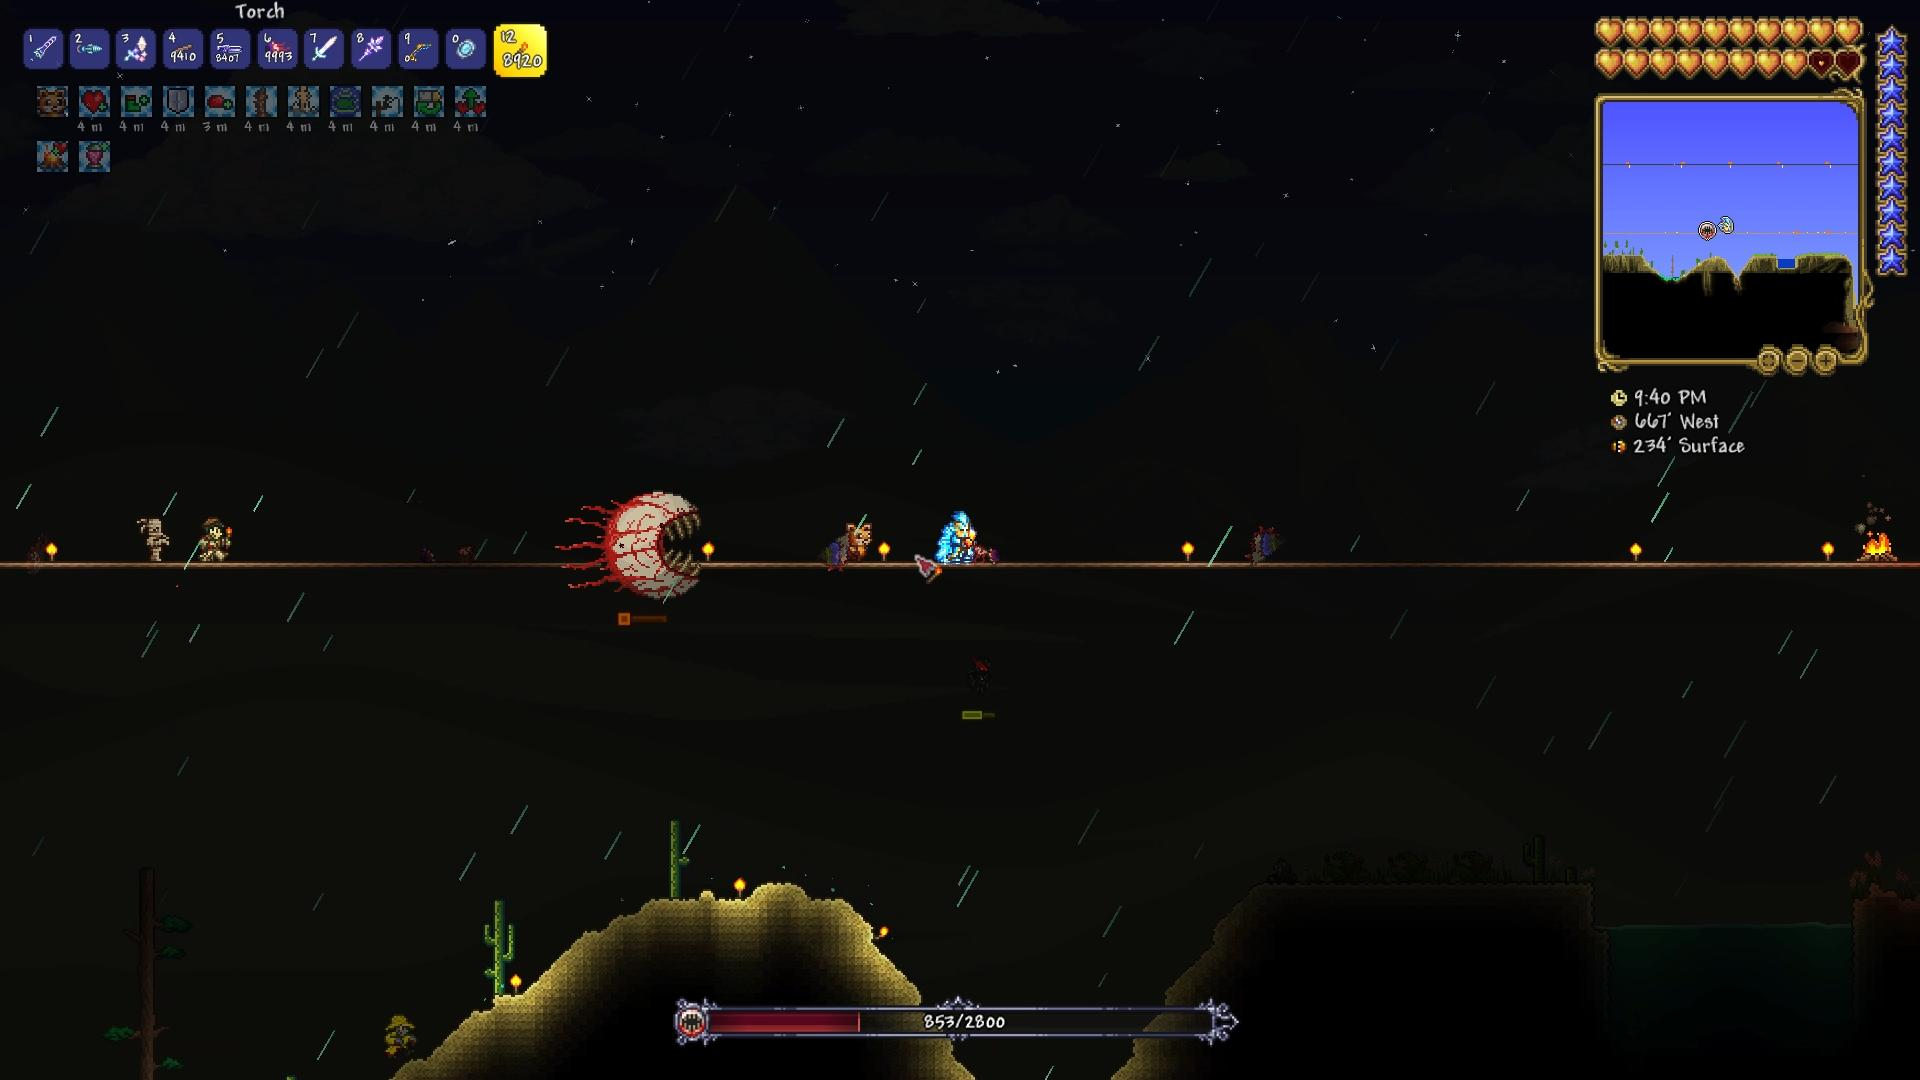eyeC: (563, 488, 707, 611)
